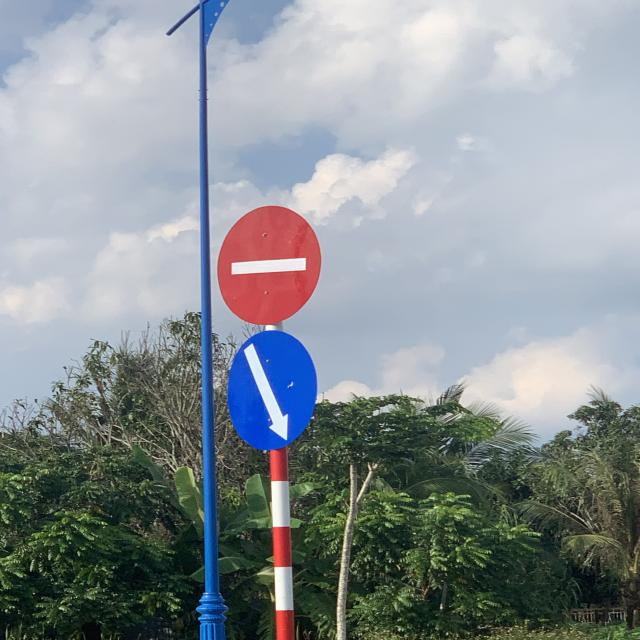Cam_Di_Nguoc_Chieu: (217, 205, 322, 326)
Chi_Huong_Di_Phai: (226, 330, 316, 450)
